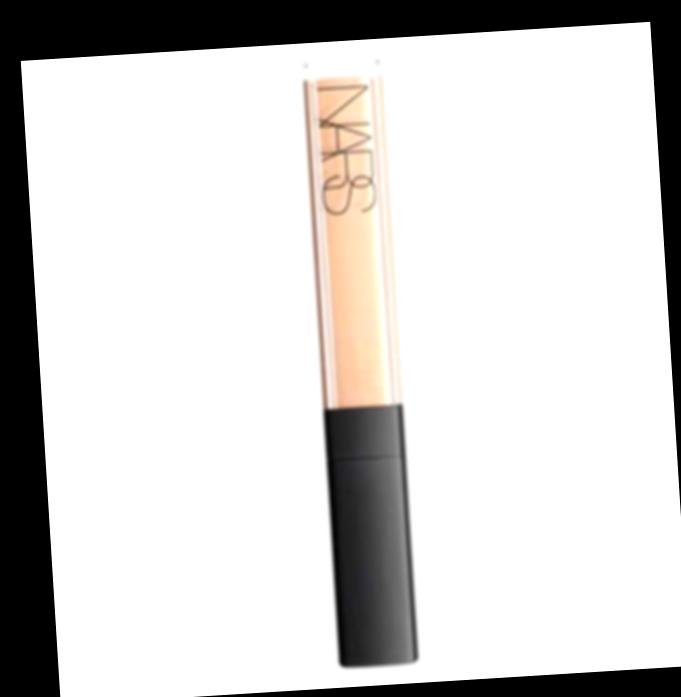cosmetic: (298, 54, 418, 667)
